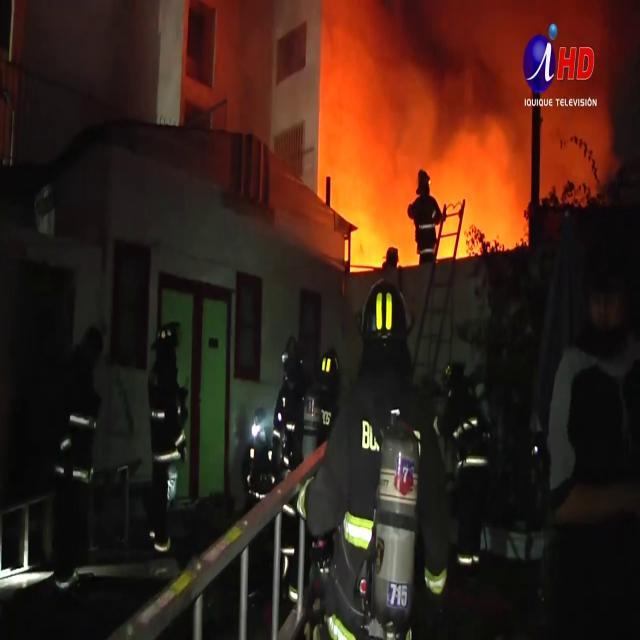Smoke: (332, 0, 624, 215)
